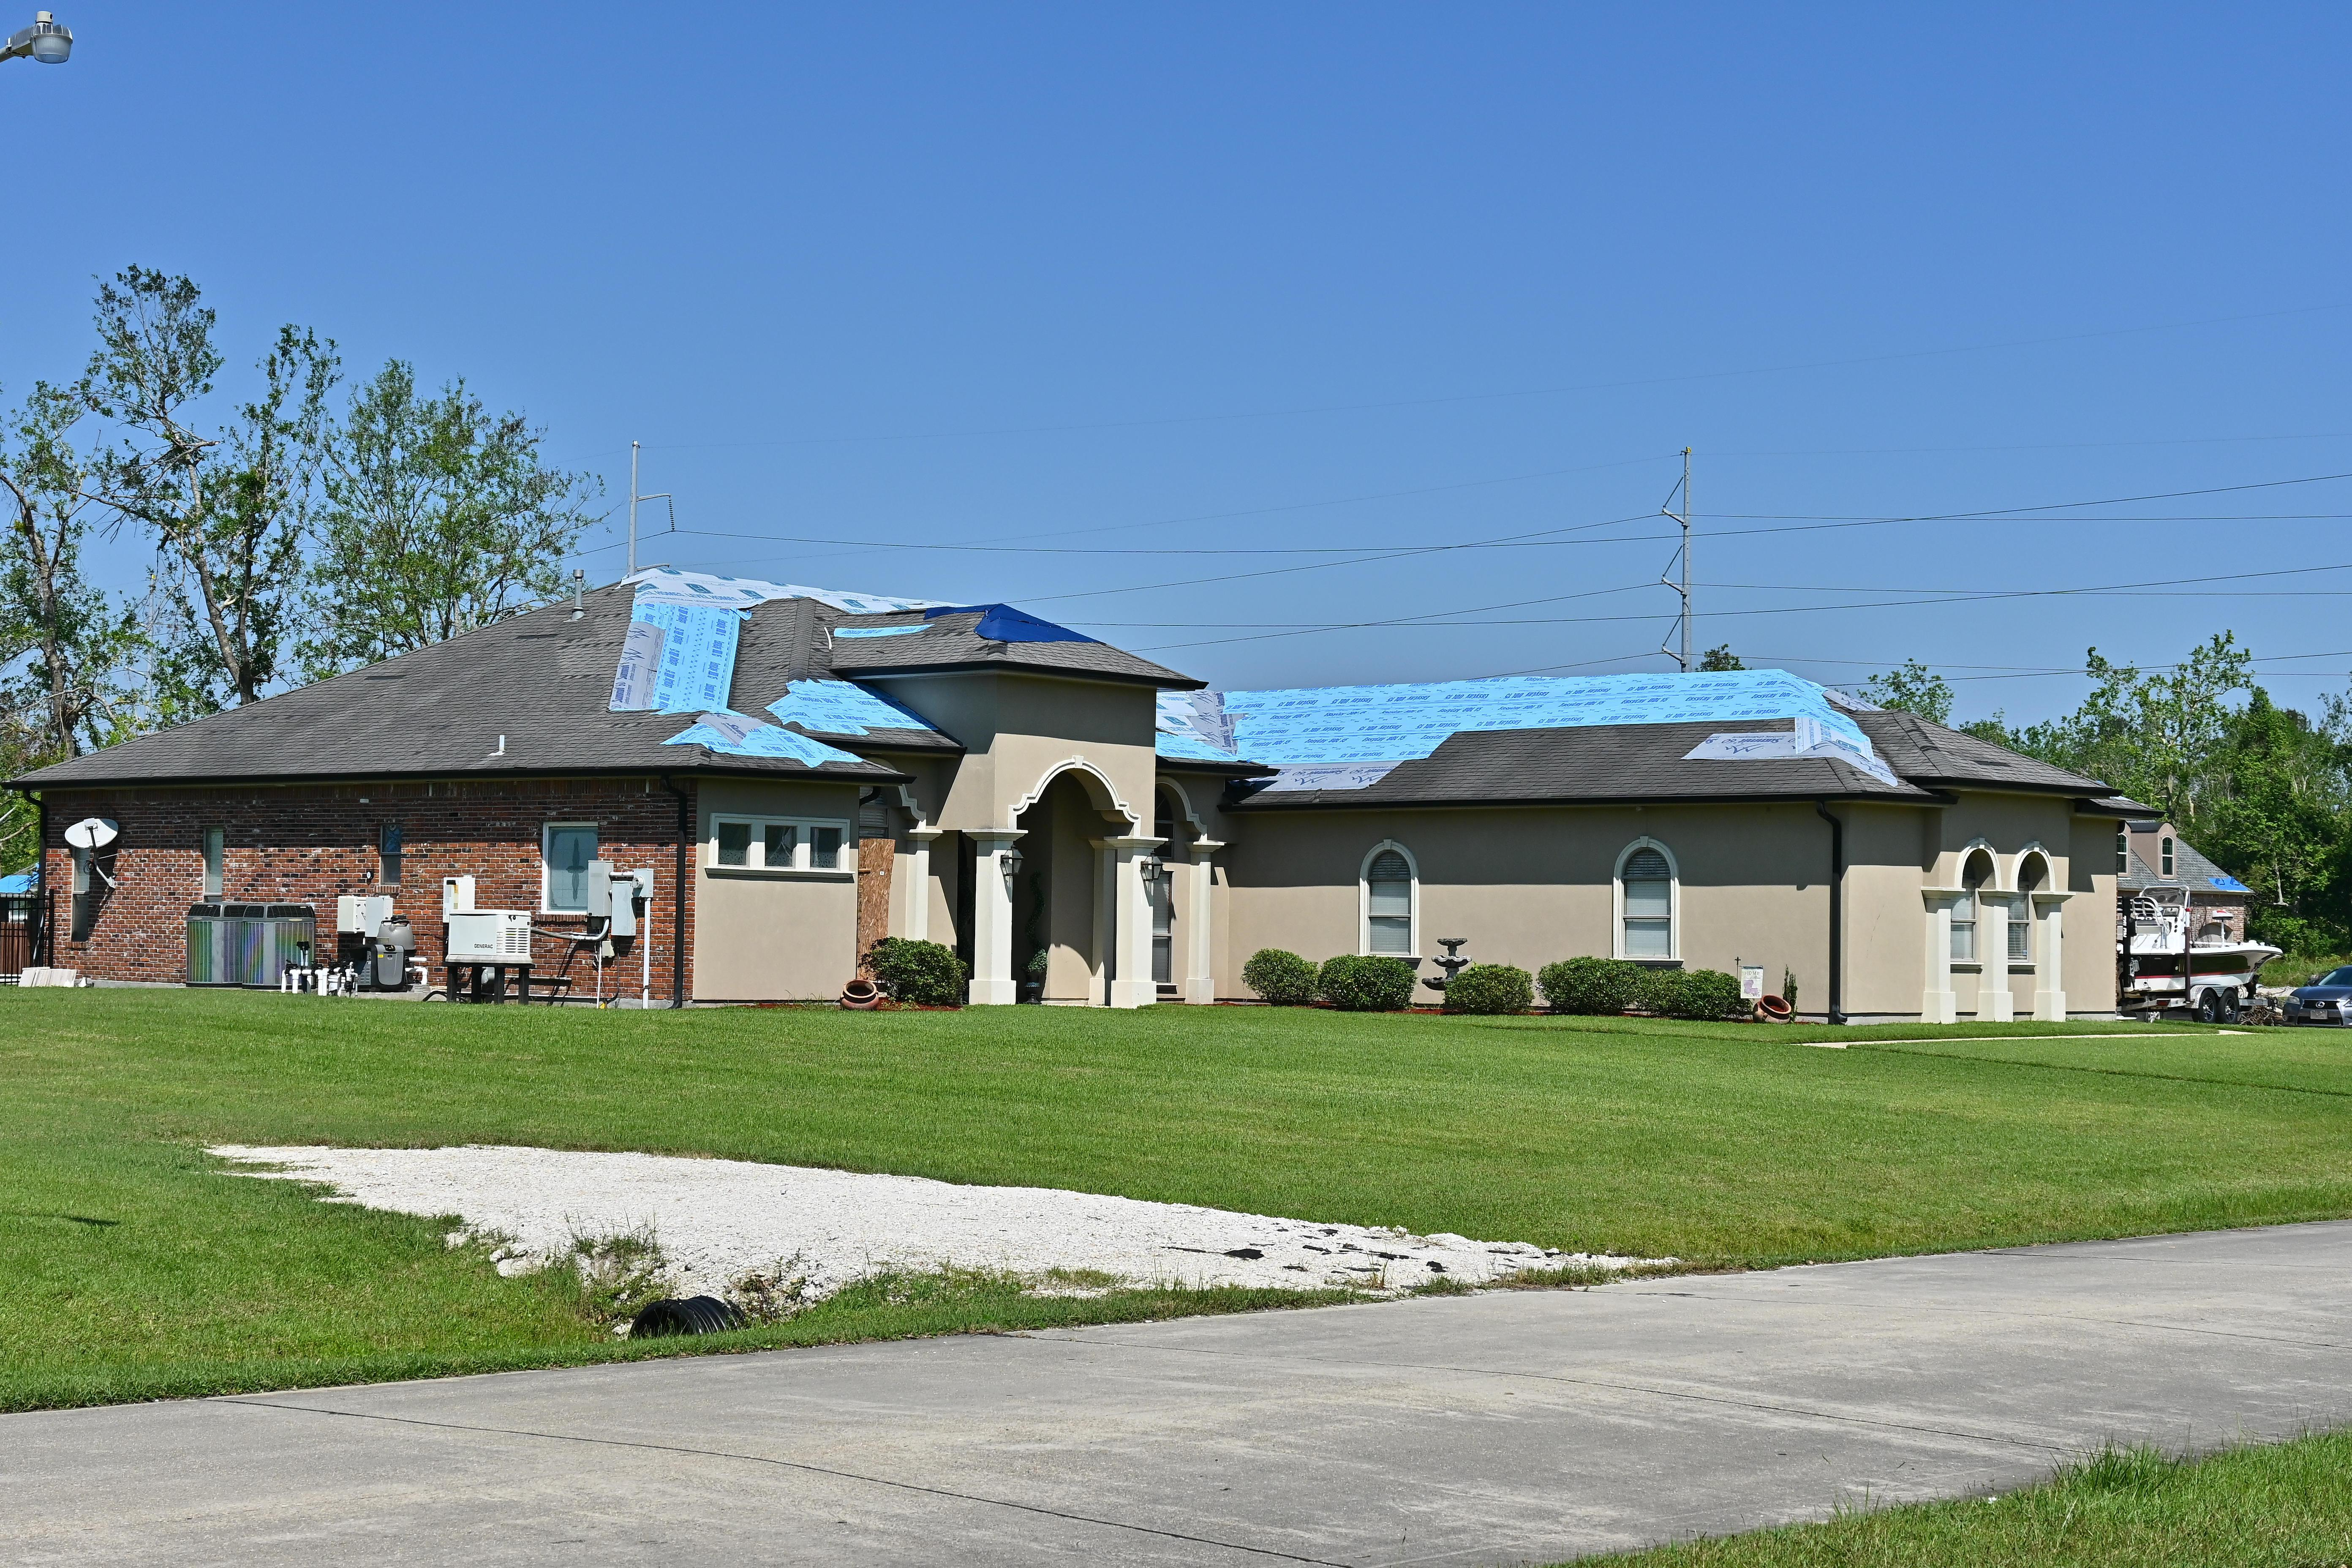minor: (30, 564, 2165, 1040)
